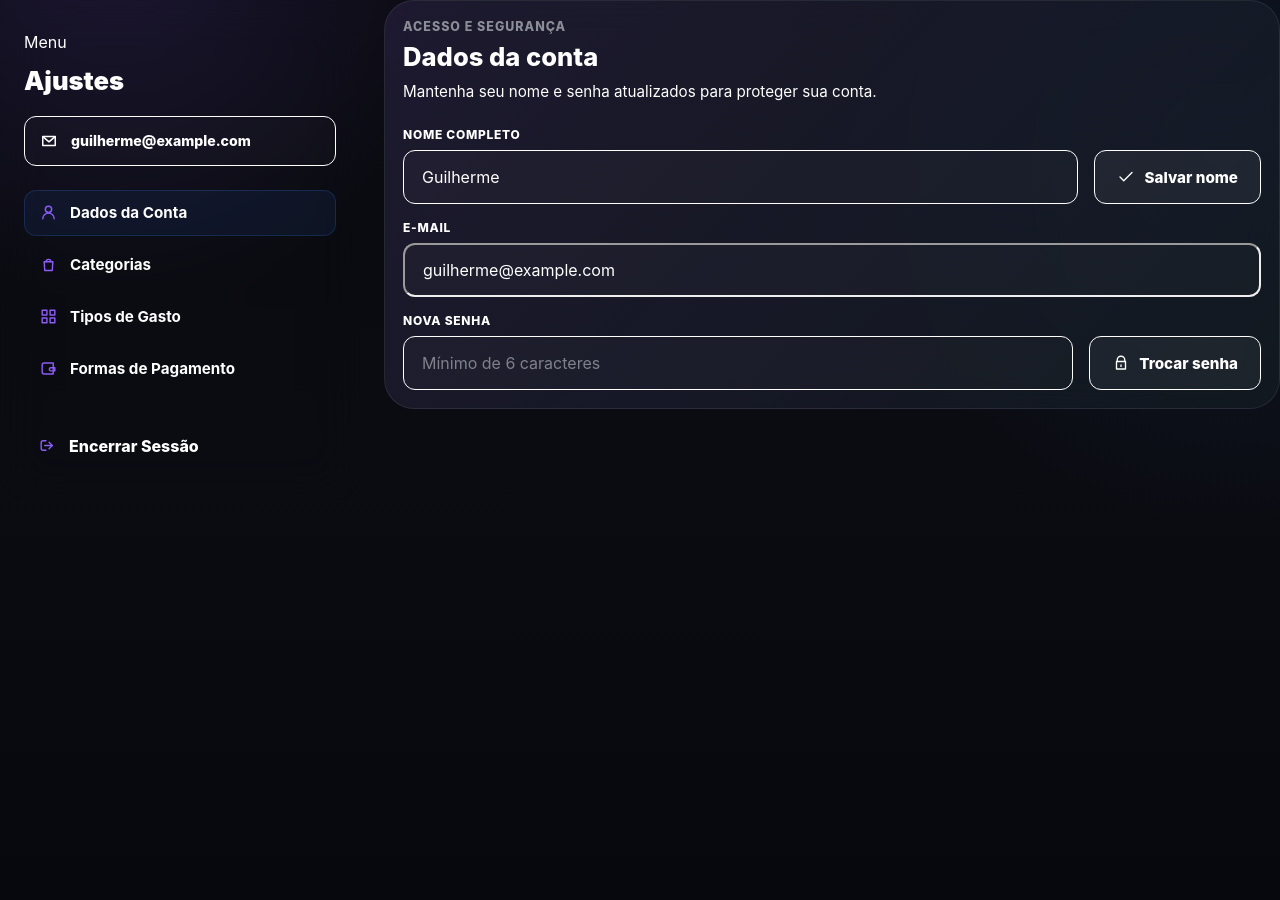
Test: AccountSettingsPanel › navega entre tipos de gasto, formas de pagamento e mantém logout no menu
The width and height of the screenshot is (1280, 900).
Click the button "Tipos de Gasto". click: x=180, y=317
box: [24, 294, 336, 340]
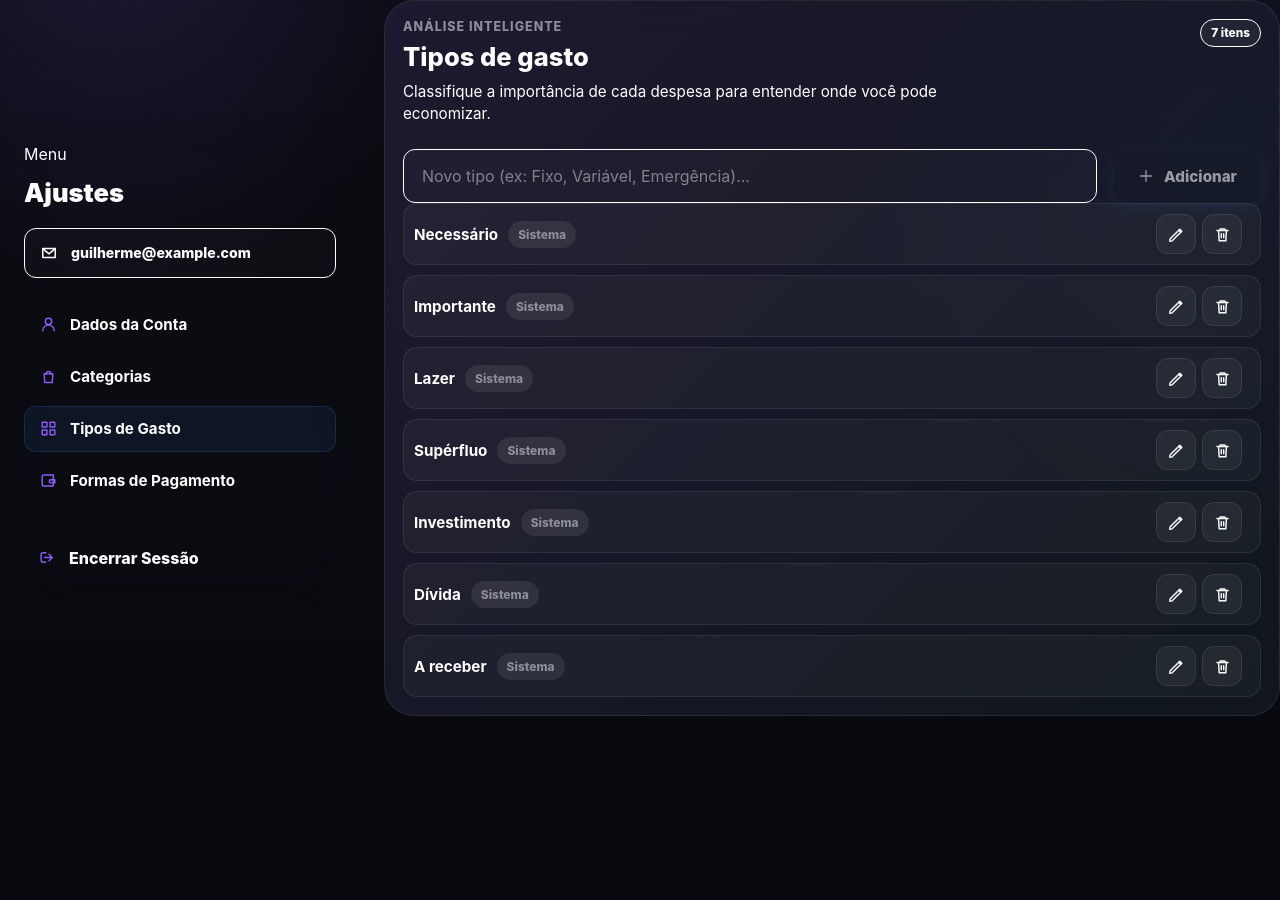
Expected: the heading "Tipos de gasto" is shown, [403, 41, 589, 72]
Click the button "Formas de Pagamento". click: x=180, y=481
box: [24, 458, 336, 504]
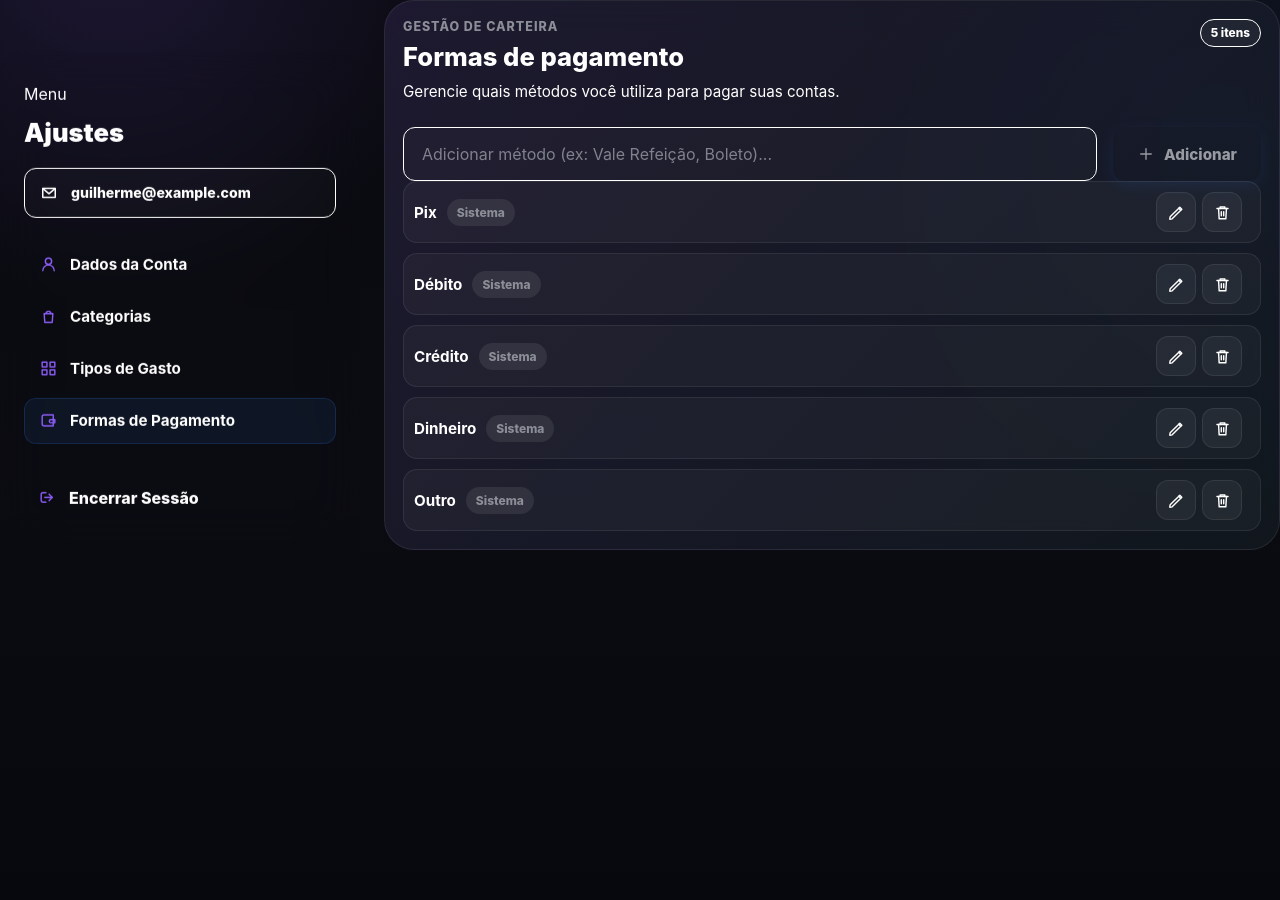
Expected: the button "Encerrar Sessão" is shown, [69, 476, 199, 518]
Expected: the heading "Formas de pagamento" is shown, [403, 41, 684, 72]
